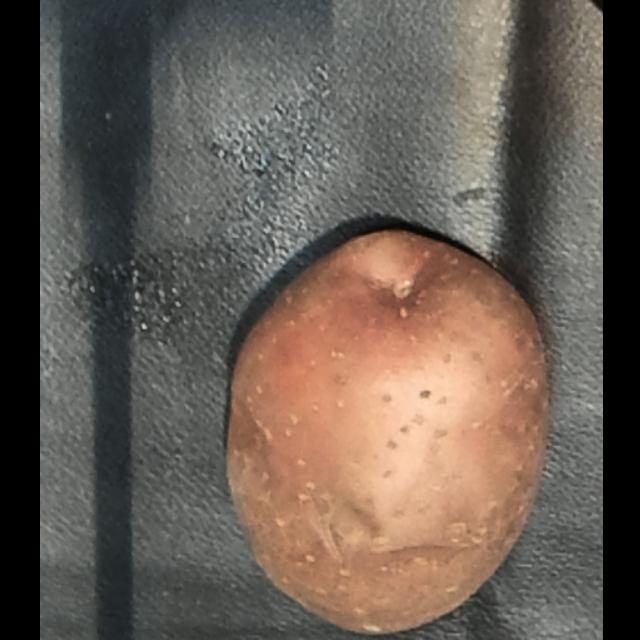Diseased-fungal potato: (215, 206, 559, 640)
